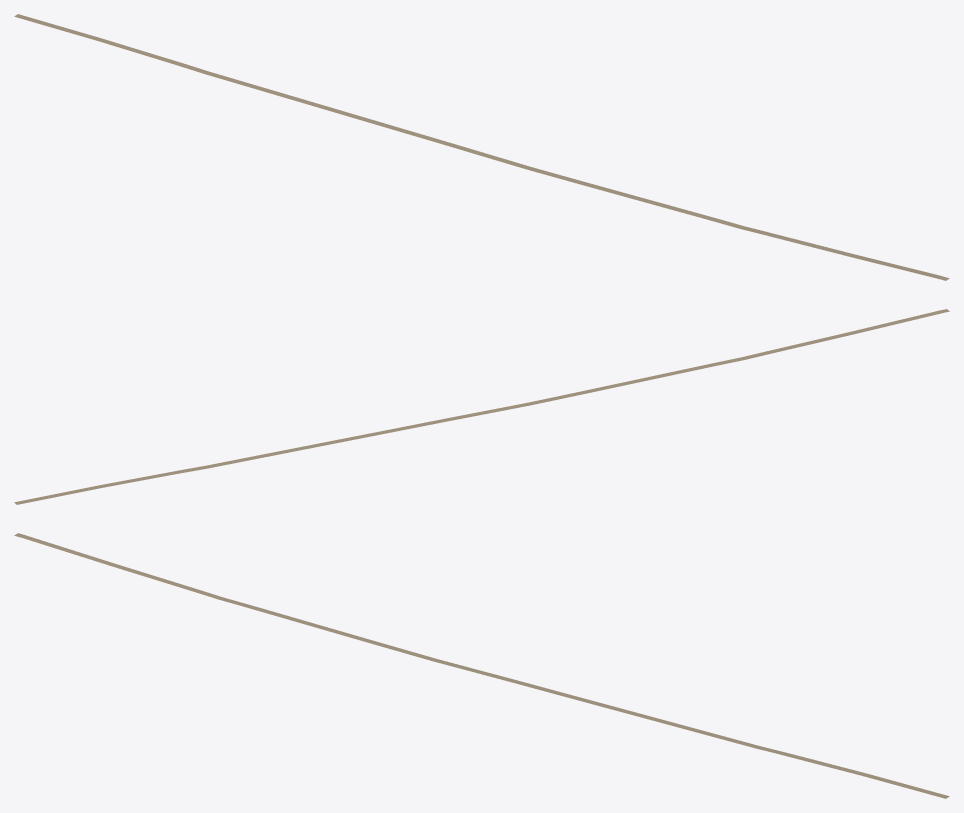
File: farm_-29_-25_track.glb
3 renders of one model, top to bottom at view 1: azimuth 90°, elevation 25°; view 2: azimuth 150°, elevation 25°; view 3: azimuth 270°, elevation 25°, orthographic. The views are drawn at different scales.
Parts seen in each view (by area): view 1: geometry_0; view 2: geometry_0; view 3: geometry_0.
Part boxes in pixels (x1=…): geometry_0: x1=14, y1=14, x2=949, y2=280; geometry_0: x1=14, y1=309, x2=949, y2=504; geometry_0: x1=14, y1=533, x2=949, y2=798.
Bounding box in the file's own units: 282 × 3.84 × 418.
